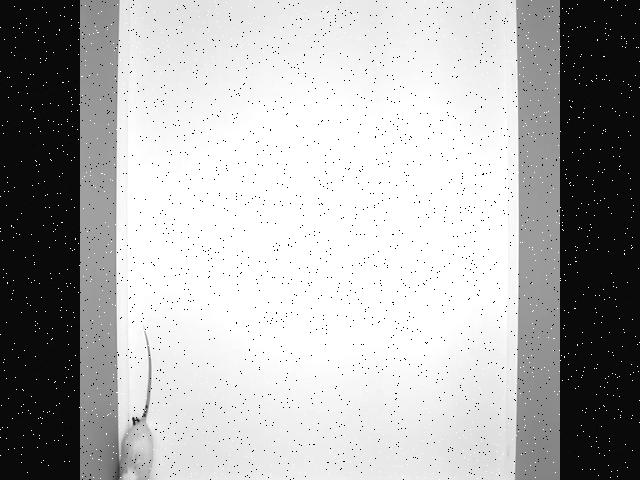Tikus: (115, 321, 156, 480)
